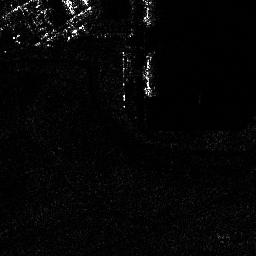ship: (141, 53, 155, 99), (142, 1, 154, 27)
